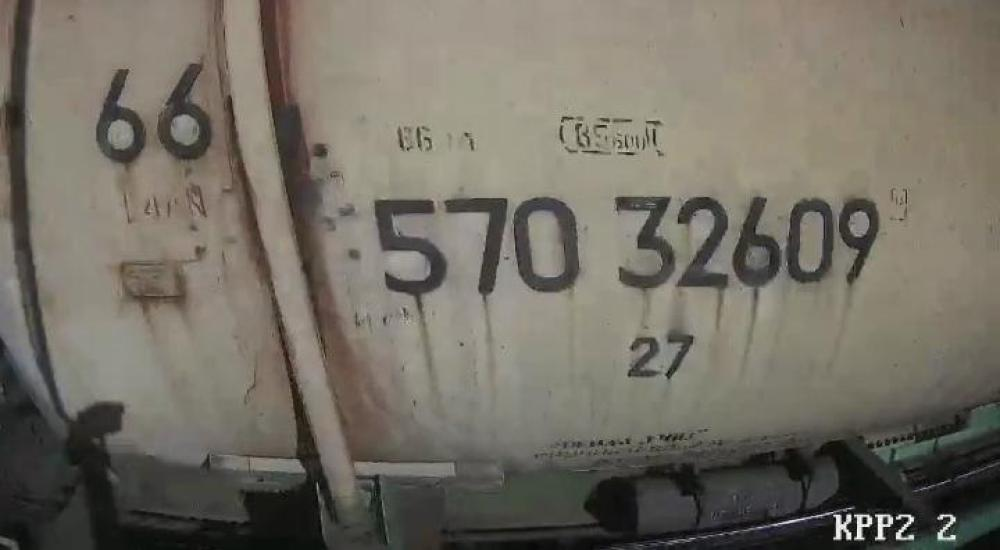Wagon-number: (369, 192, 887, 301)
